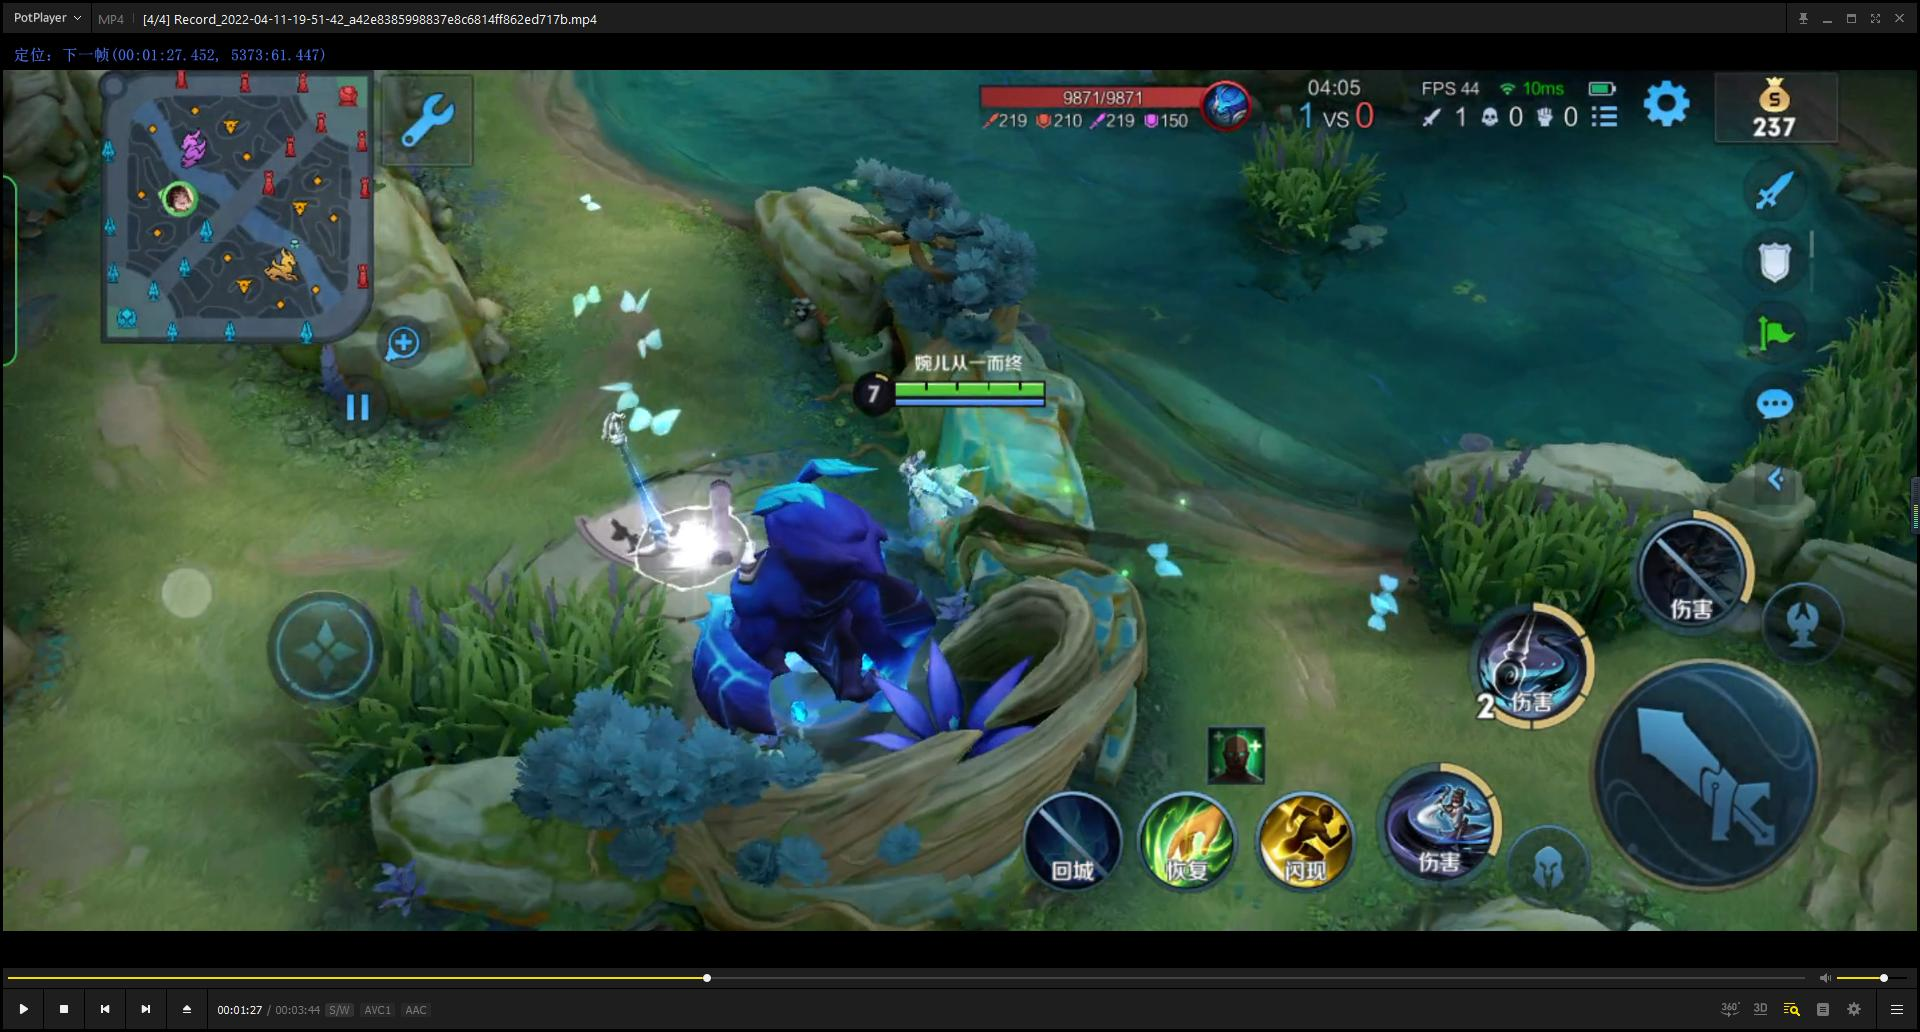Buff: (632, 422, 958, 754)
Hero: (882, 454, 1023, 587)
